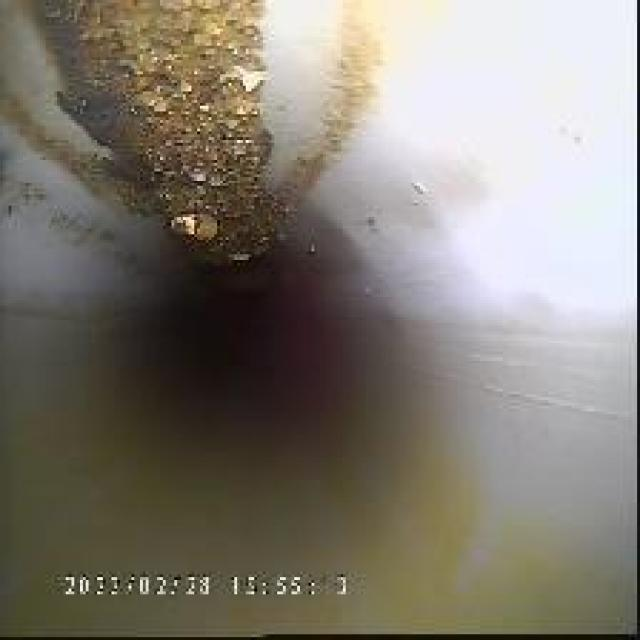stone: (137, 192, 229, 257)
